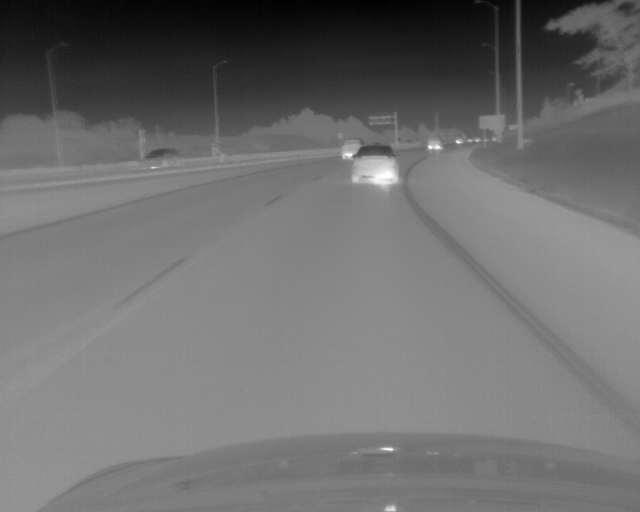car: (349, 144, 400, 184), (142, 147, 179, 159), (341, 139, 363, 159), (427, 138, 444, 150)
